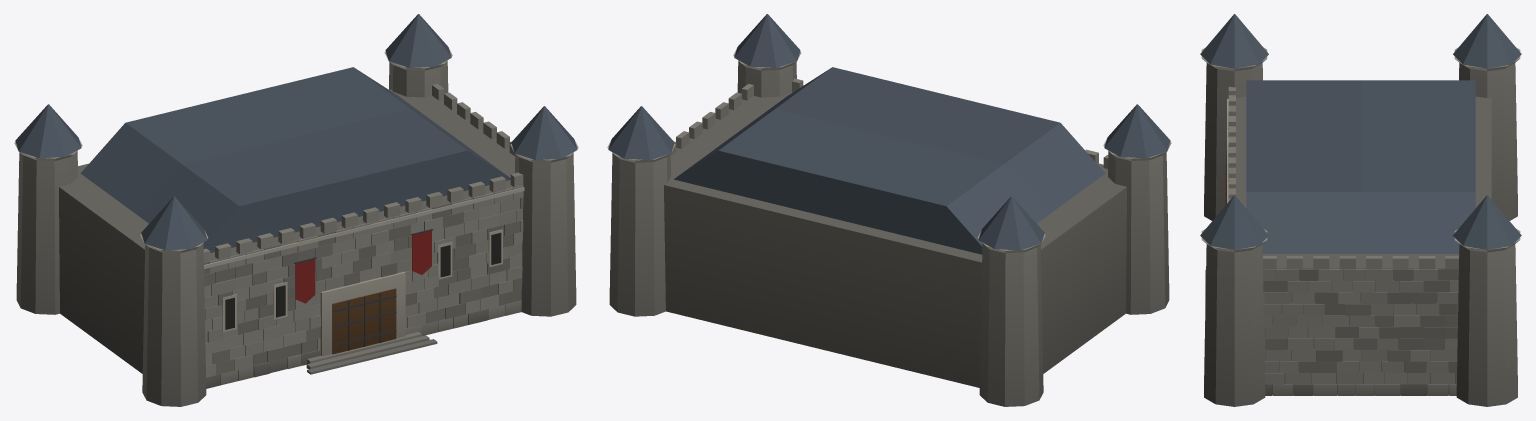
Rendered from v2_fort_kit.glb.
3 views of the same model, side by side, from view 1: azimuth 30°, elevation 25°; view 2: azimuth 150°, elevation 25°; view 3: azimuth 270°, elevation 25° (orthographic).
Parts seen in each view (by area): view 1: kit_fort_keep; view 2: kit_fort_keep; view 3: kit_fort_keep.
Part boxes in pixels (x1,y1,x2,y2): kit_fort_keep: [14, 14, 578, 406]; kit_fort_keep: [607, 14, 1171, 406]; kit_fort_keep: [1200, 14, 1521, 406].
Size of the model in its own units: 33.9 by 15.6 by 21.9.
